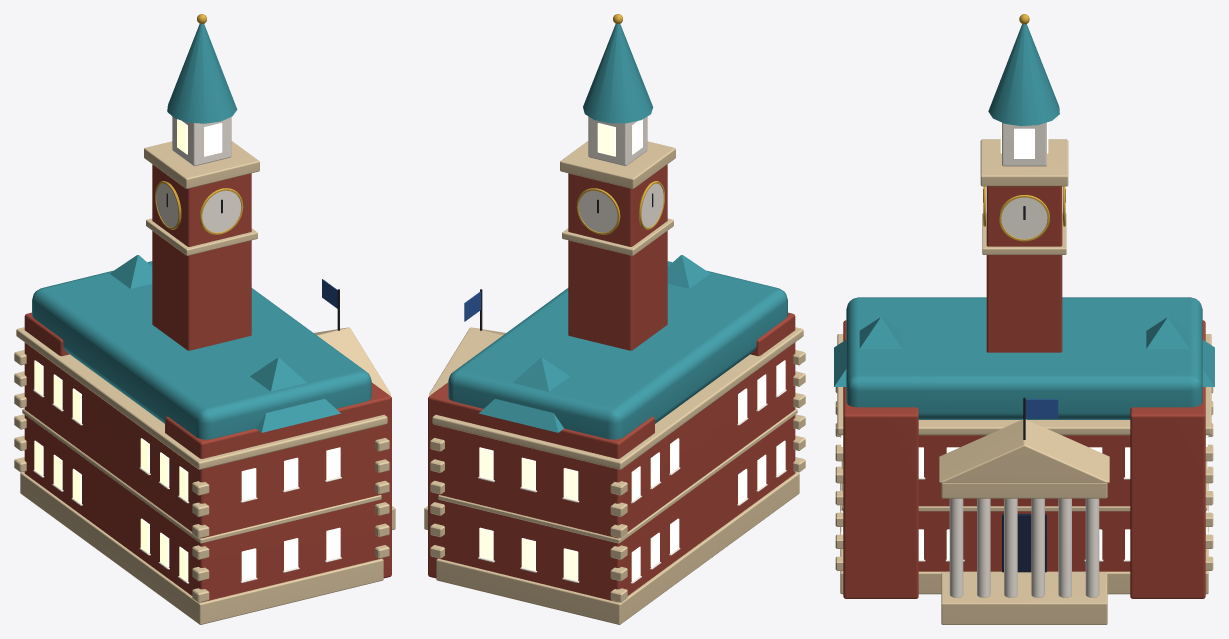
File: town_hall.glb
The picture shows the model from 3 angles, left to right: view 1: azimuth 30°, elevation 25°; view 2: azimuth 150°, elevation 25°; view 3: azimuth 270°, elevation 25°; orthographic projection. The views are drawn at different scales.
Visible parts, largest first — view 1: town_hall; view 2: town_hall; view 3: town_hall.
Boxes of the visible parts, x1=… form: town_hall: x1=14, y1=14, x2=395, y2=624; town_hall: x1=424, y1=14, x2=805, y2=624; town_hall: x1=834, y1=14, x2=1214, y2=624.
Bounding box in the file's own units: 19.5 × 39.05 × 25.22.
Materials: 1 (1 with a texture image).
